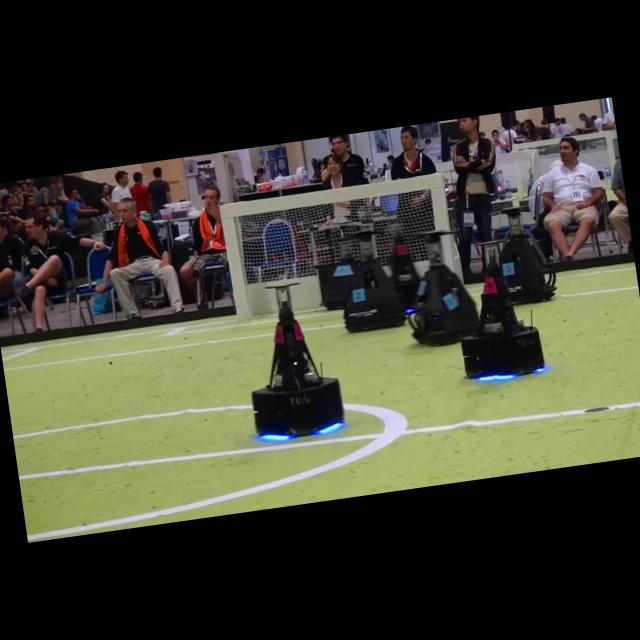goal: (221, 206, 252, 320)
robot: (252, 284, 344, 436), (462, 241, 545, 378), (409, 231, 479, 346), (343, 231, 406, 332), (310, 221, 372, 310), (500, 207, 556, 303), (390, 227, 420, 308)
